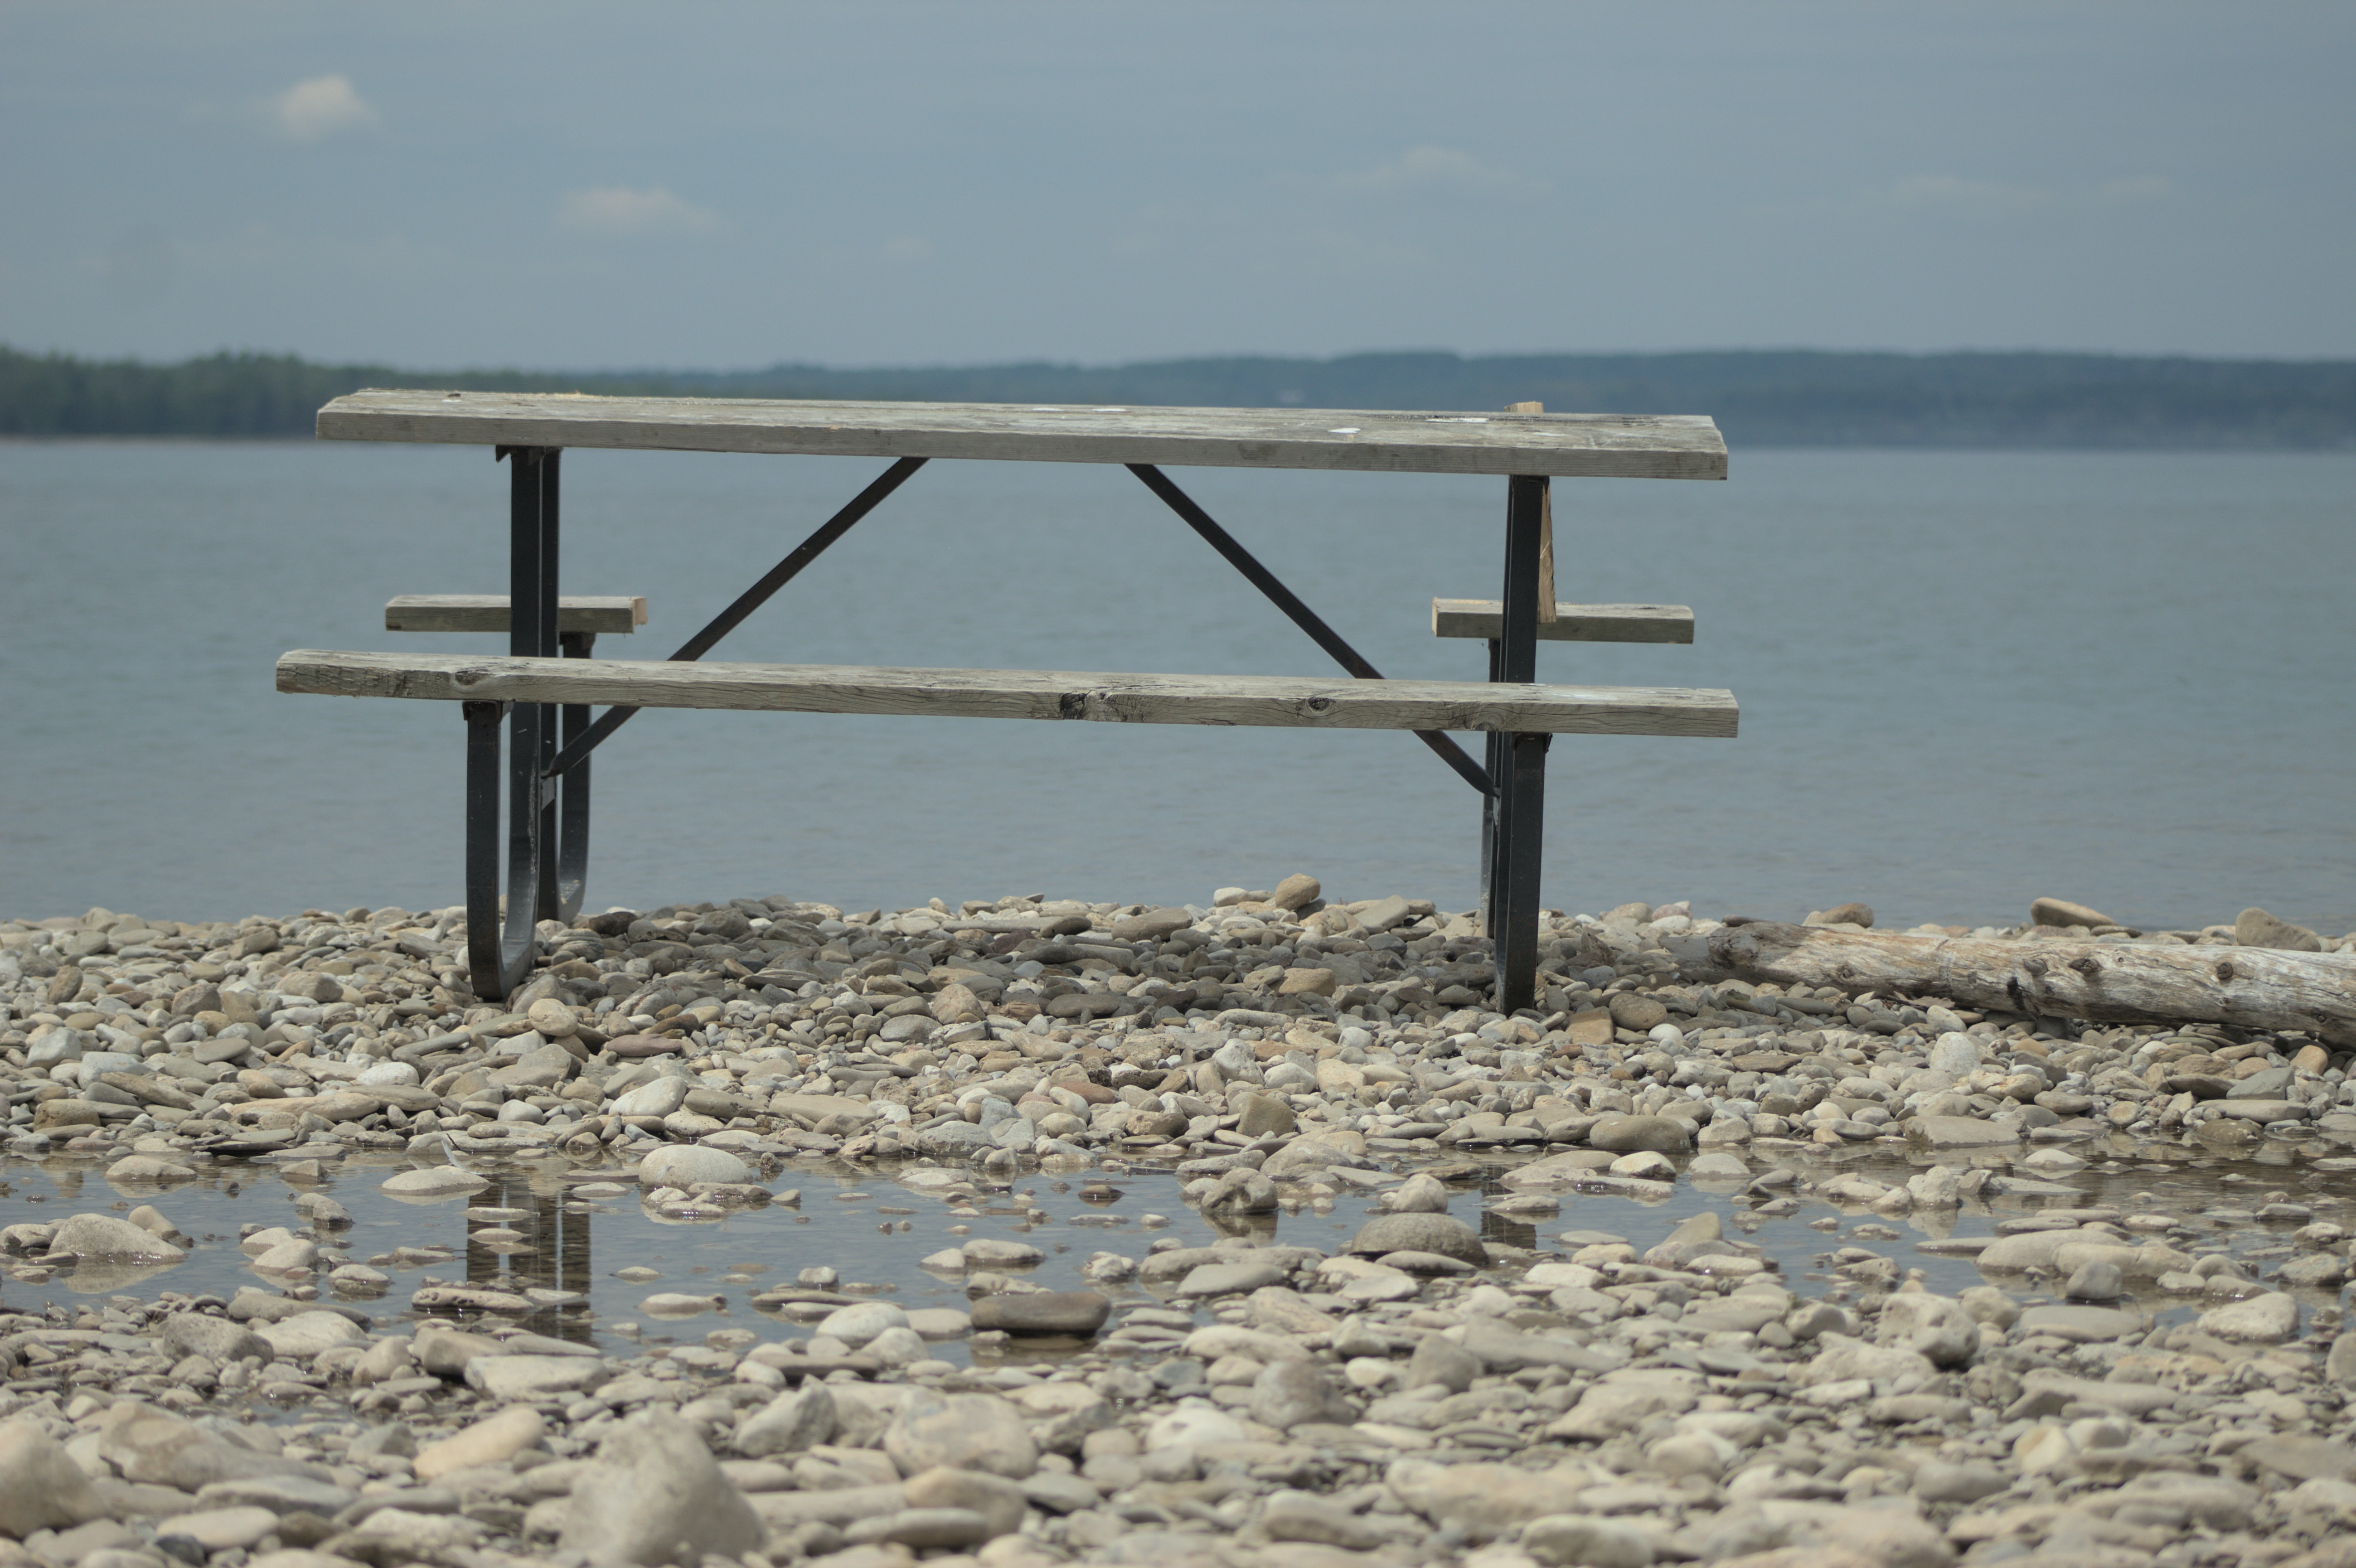obstacle: (235, 290, 1806, 1132)
